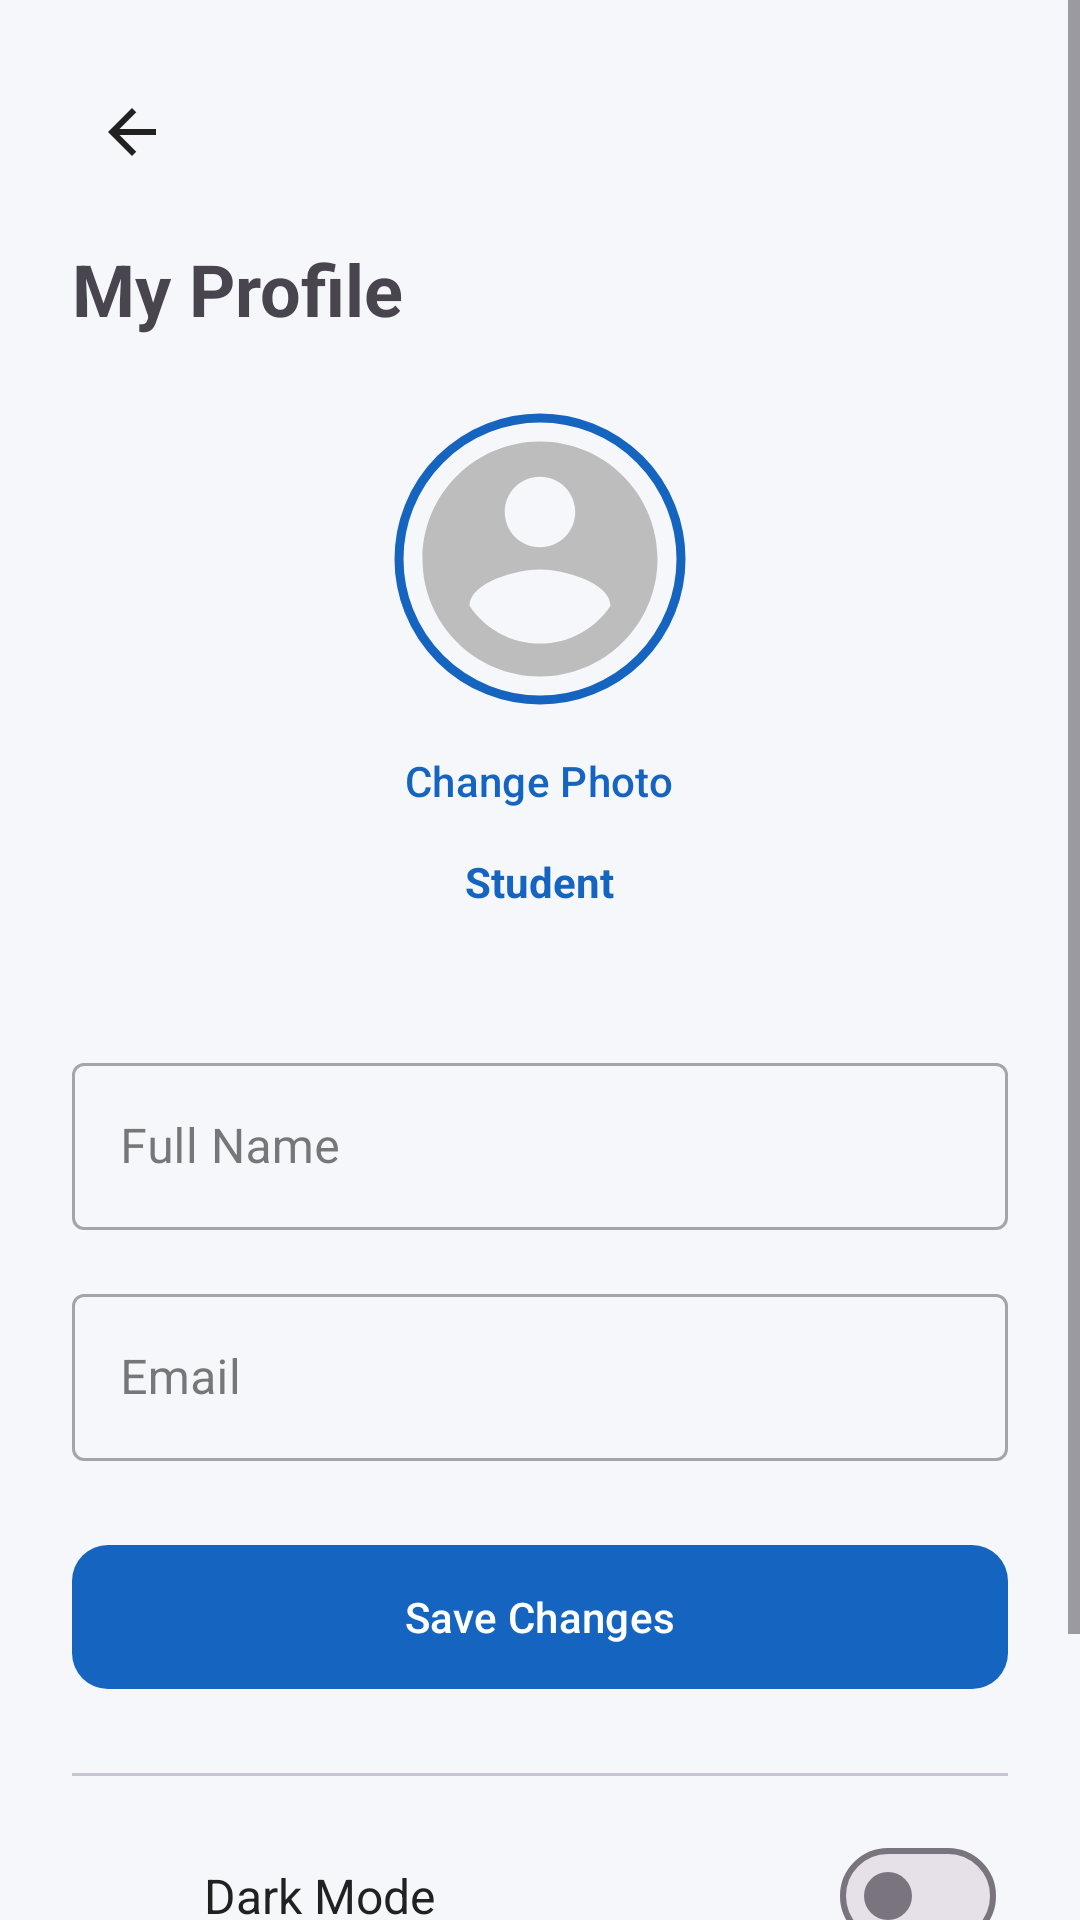

Where icons sit on this 1080x1920 app screen, as bbox(x1, y1, x2, y2):
back: bbox(108, 108, 156, 156)
